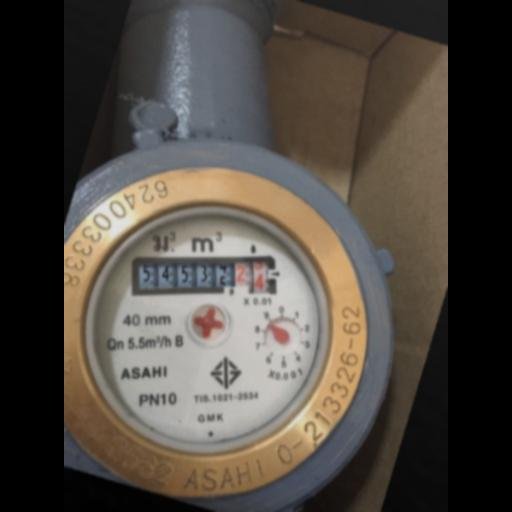2: (236, 264, 248, 287)
3: (197, 264, 211, 286)
4: (254, 261, 267, 291), (159, 265, 173, 288), (218, 265, 231, 287)
5: (139, 264, 153, 288), (179, 265, 192, 288)
border_water_meter_number: (132, 255, 278, 297)
